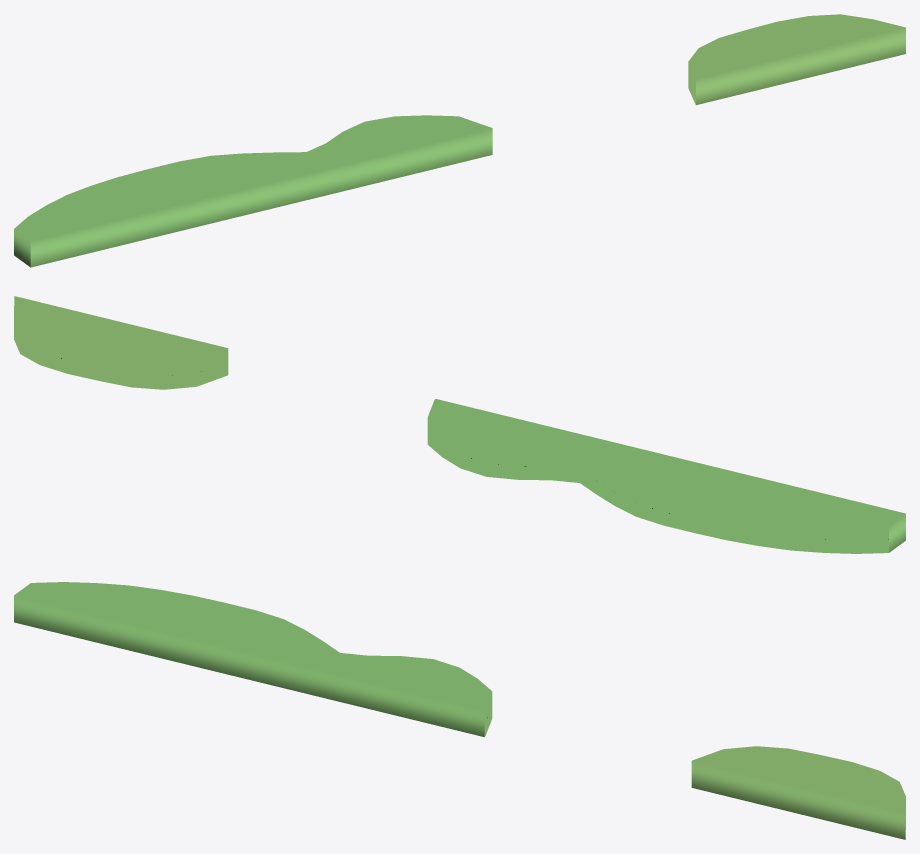
File: hillright.fbx
3 renders of one model, top to bottom at view 1: azimuth 30°, elevation 25°; view 2: azimuth 150°, elevation 25°; view 3: azimuth 330°, elevation 25°, orthographic.
Visible parts, largest first — view 1: hillsleft1; view 2: hillsleft1; view 3: hillsleft1.
Part boxes in pixels (x1,y1,x2,y2): hillsleft1: (14,14,905,267); hillsleft1: (14,296,905,553); hillsleft1: (14,582,905,839).
Bounding box in the file's own units: 0.6899 × 0.02 × 0.0606.
